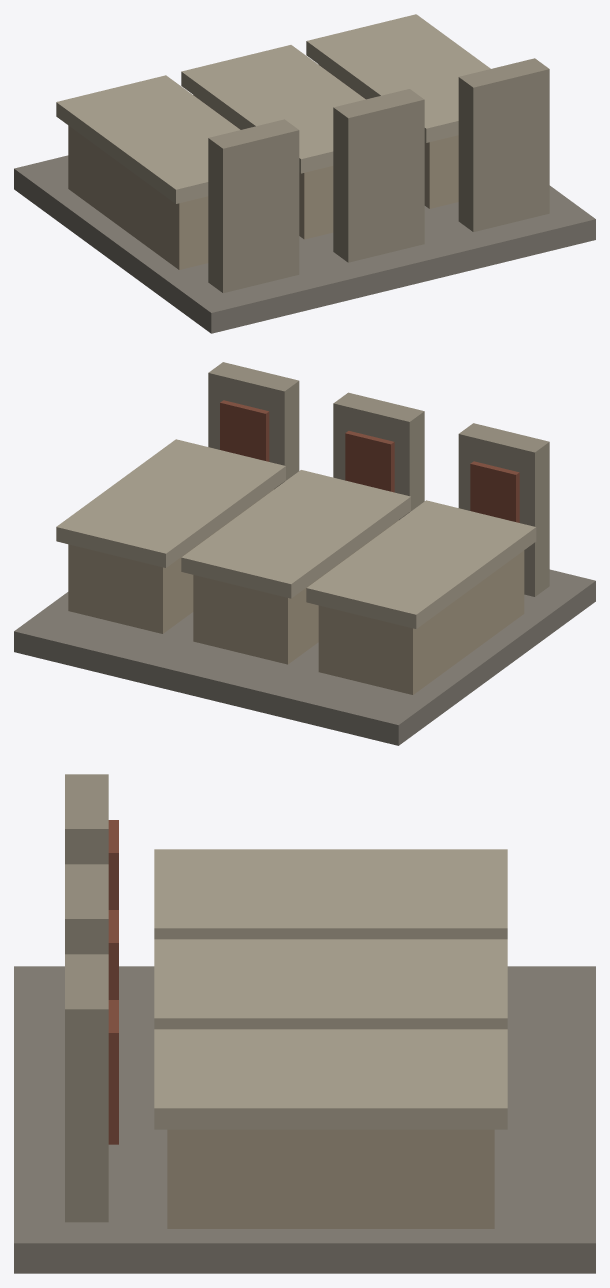
File: Dungeon_TombCluster.fbx
The picture shows the model from 3 angles, top to bottom: view 1: azimuth 30°, elevation 25°; view 2: azimuth 150°, elevation 25°; view 3: azimuth 270°, elevation 25°; orthographic projection. The views are drawn at different scales.
Parts seen in each view (by area): view 1: Dungeon_TombCluster; view 2: Dungeon_TombCluster; view 3: Dungeon_TombCluster.
Boxes of the visible parts, x1=… form: Dungeon_TombCluster: x1=14, y1=14, x2=595, y2=333; Dungeon_TombCluster: x1=14, y1=362, x2=595, y2=745; Dungeon_TombCluster: x1=14, y1=774, x2=595, y2=1273.
Bounding box in the file's own units: 5.04 × 2.07 × 4.48.
